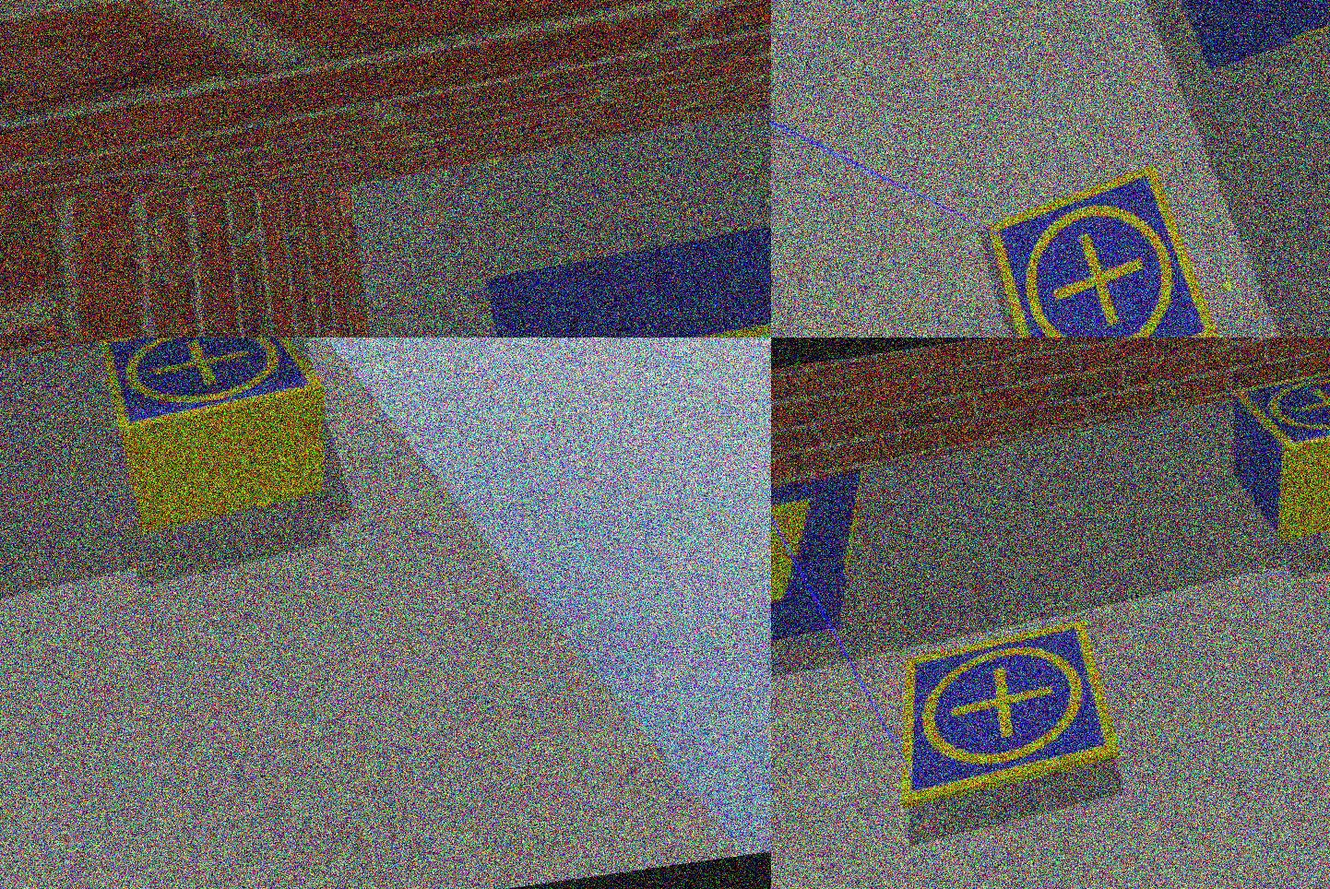large_base: (483, 153, 771, 338), (771, 465, 885, 667)
small_base: (886, 617, 1123, 806), (977, 160, 1226, 338), (98, 338, 327, 439), (1232, 358, 1330, 456)
